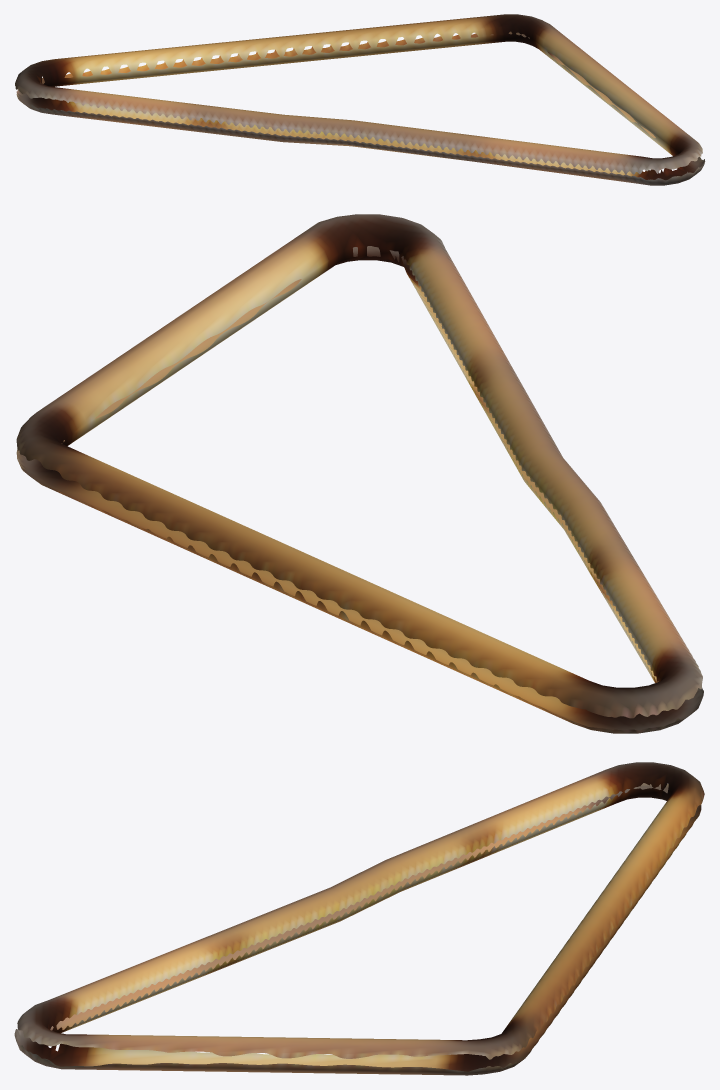
File: lsling3.fbx
3 renders of one model, top to bottom at view 1: azimuth 30°, elevation 25°; view 2: azimuth 150°, elevation 25°; view 3: azimuth 270°, elevation 25°, orthographic. The views are drawn at different scales.
Parts seen in each view (by area): view 1: lsling3; view 2: lsling3; view 3: lsling3.
Part boxes in pixels (bbox=[...]): lsling3: bbox=[15, 14, 705, 185]; lsling3: bbox=[16, 214, 703, 733]; lsling3: bbox=[14, 762, 704, 1075].
Size of the model in its own units: 9.87 by 0.5054 by 9.87.
1 material, 1 textured.
